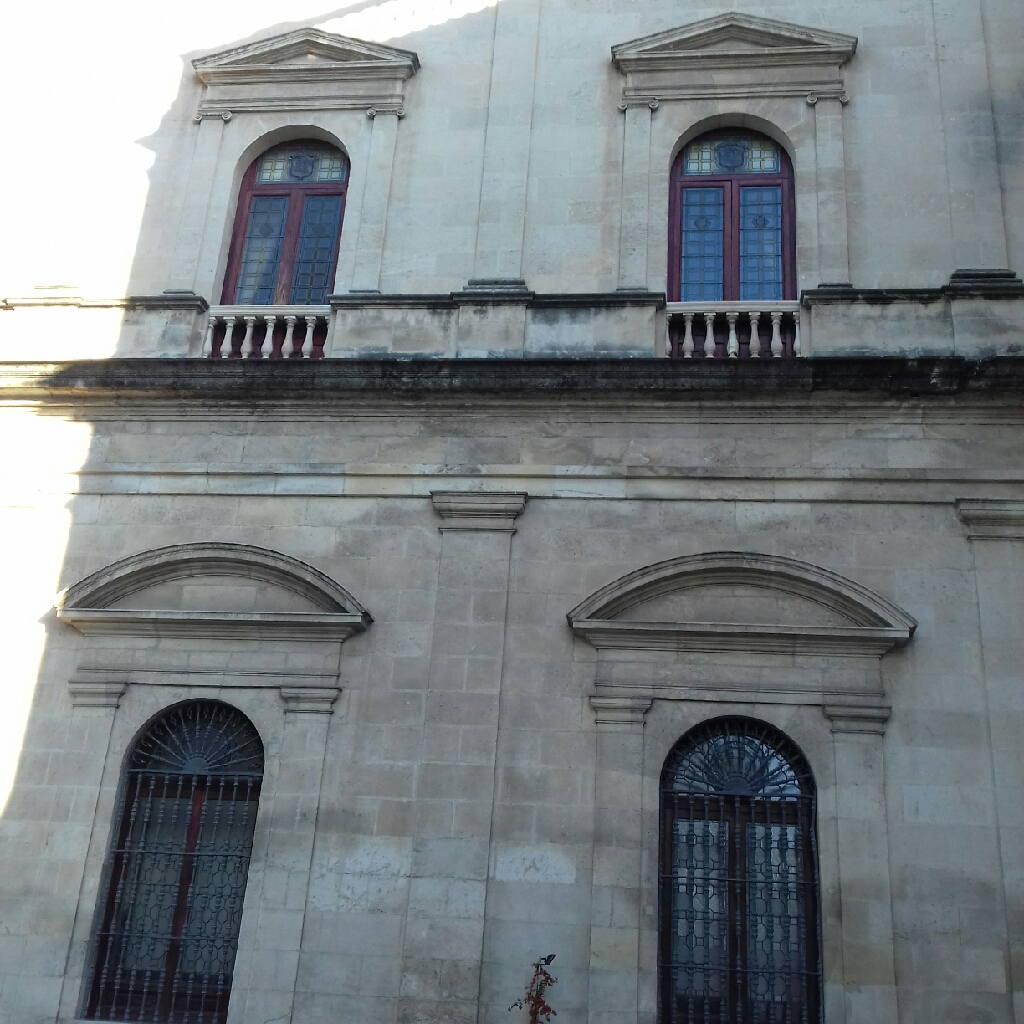arco-medio-punto: (639, 718, 827, 822), (111, 692, 276, 785), (662, 109, 803, 187), (224, 122, 353, 203)
fronton: (603, 6, 858, 70), (187, 22, 416, 84)
fronton-curvo: (567, 550, 929, 674), (57, 540, 387, 656)
